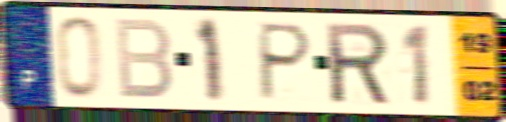0: (53, 13, 107, 103)
1: (191, 15, 228, 105), (396, 22, 432, 108)
B: (112, 16, 175, 102)
P: (257, 20, 315, 103)
R: (323, 21, 393, 108)
